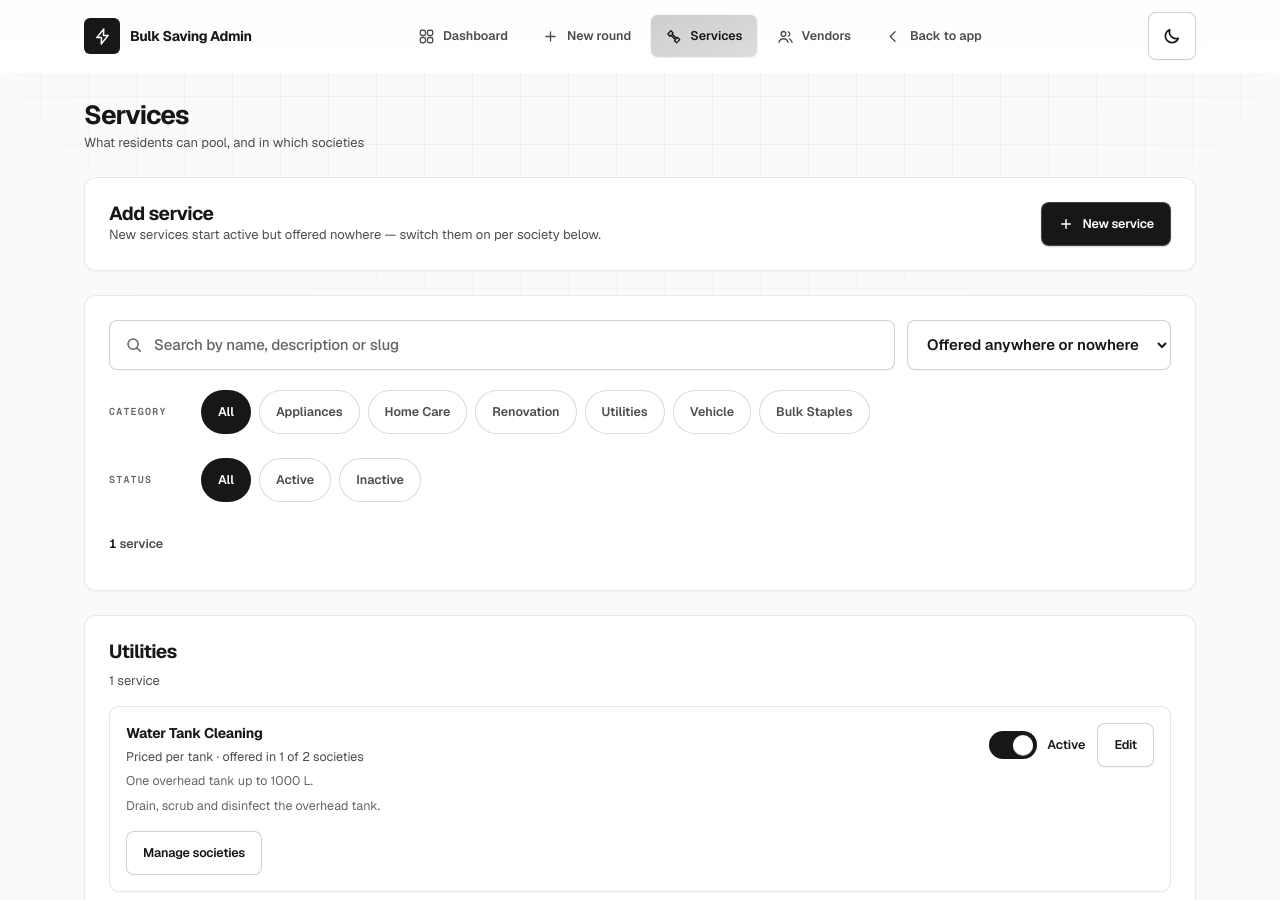
Test: AdminServicesPage › shows where a service is offered, and at what price per unit
The image size is (1280, 900).
Check: the text "Priced per tank · offered in 1 of 2 societies" is shown, box [126,748,380,766]
What coordinates should you click on to do the following:
click the button "Manage societies"
I would click on:
 (194, 853)
Its box is [126,831,262,875].
(page scrolled)
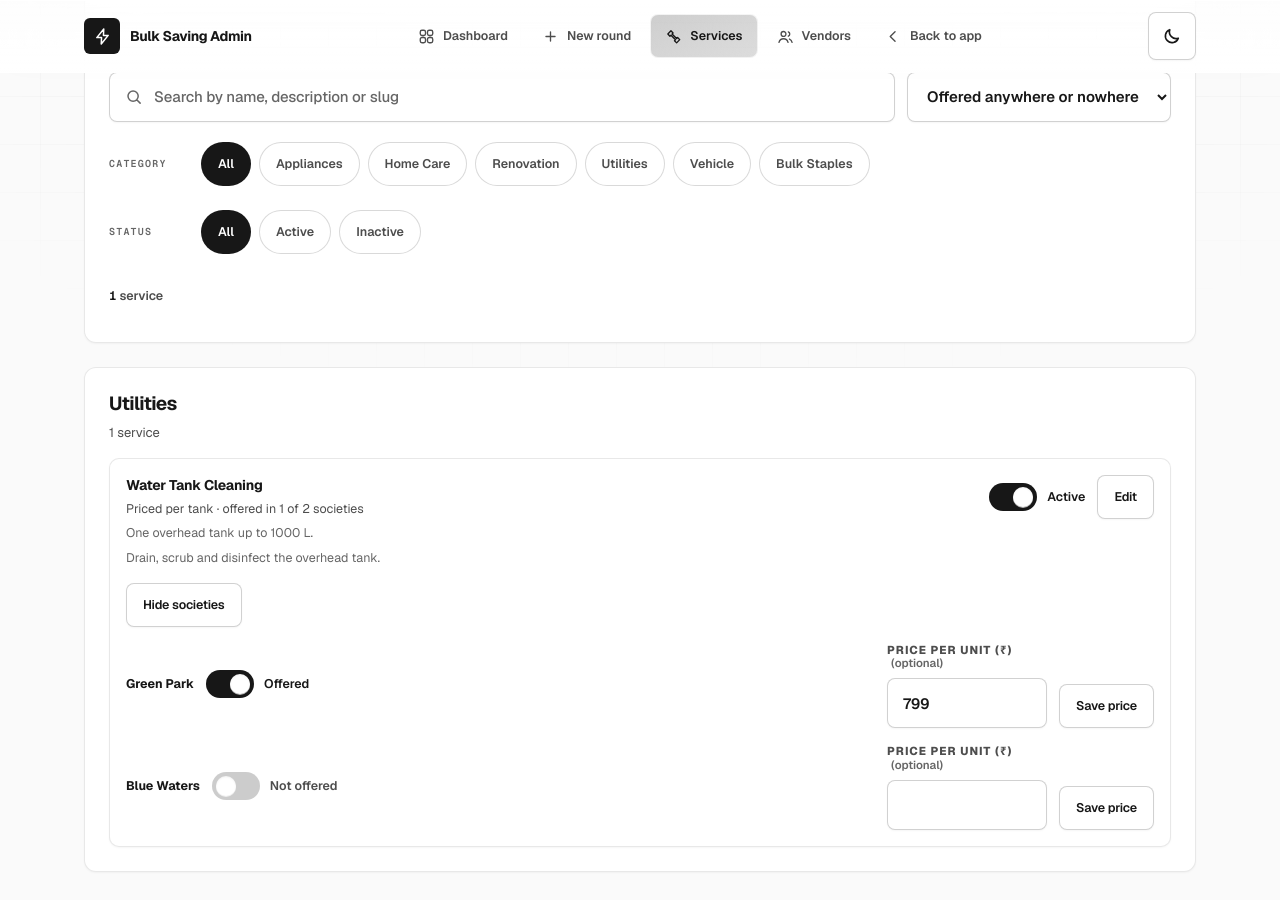
Check: the button "Hide societies" is expanded, box [126,583,242,627]
